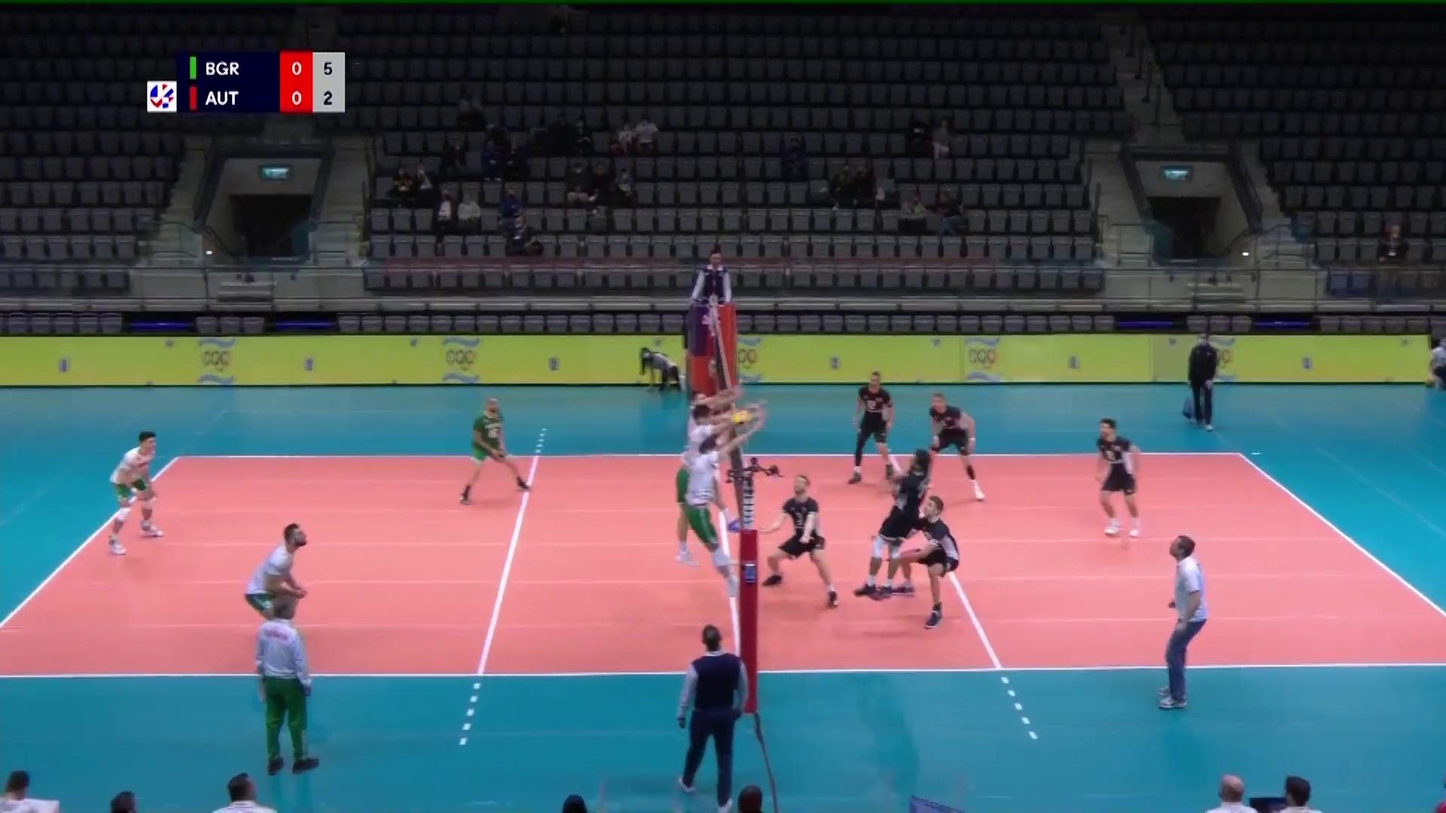ball: (733, 411, 753, 427)
